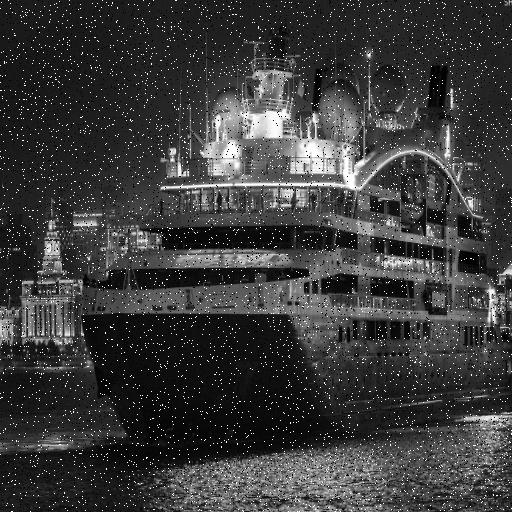cruises: (77, 26, 512, 450)
